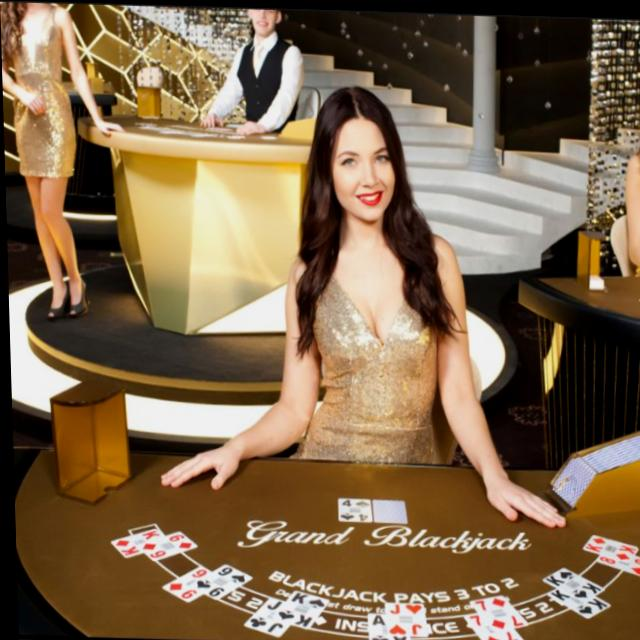Card-4: (335, 495, 369, 520)
Card-6: (134, 529, 195, 560)
Card-7: (467, 592, 525, 631), (459, 611, 521, 640)
Card-8: (593, 551, 640, 573)
Card-9: (187, 562, 249, 599), (158, 565, 207, 603)
Card-A: (365, 610, 407, 640)
Card-J: (241, 597, 286, 637), (381, 601, 424, 634)
Card-K: (539, 564, 602, 601), (270, 589, 327, 627), (542, 585, 607, 615), (579, 530, 635, 560), (106, 527, 159, 558)
